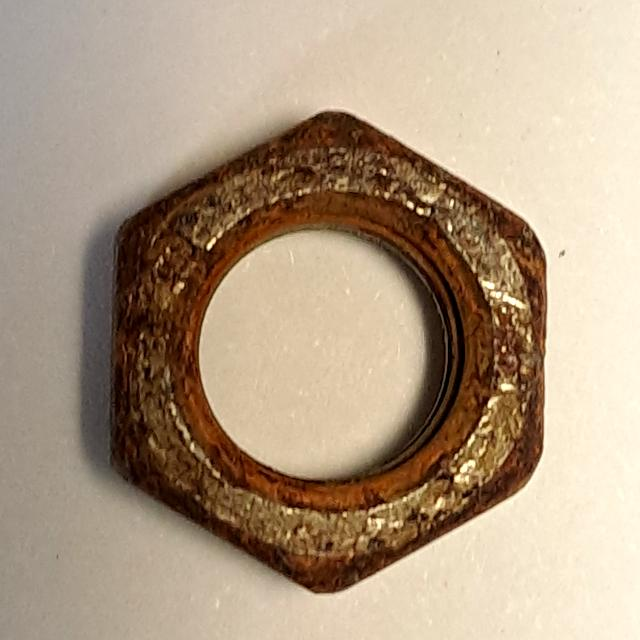Rust: (90, 91, 560, 615)
